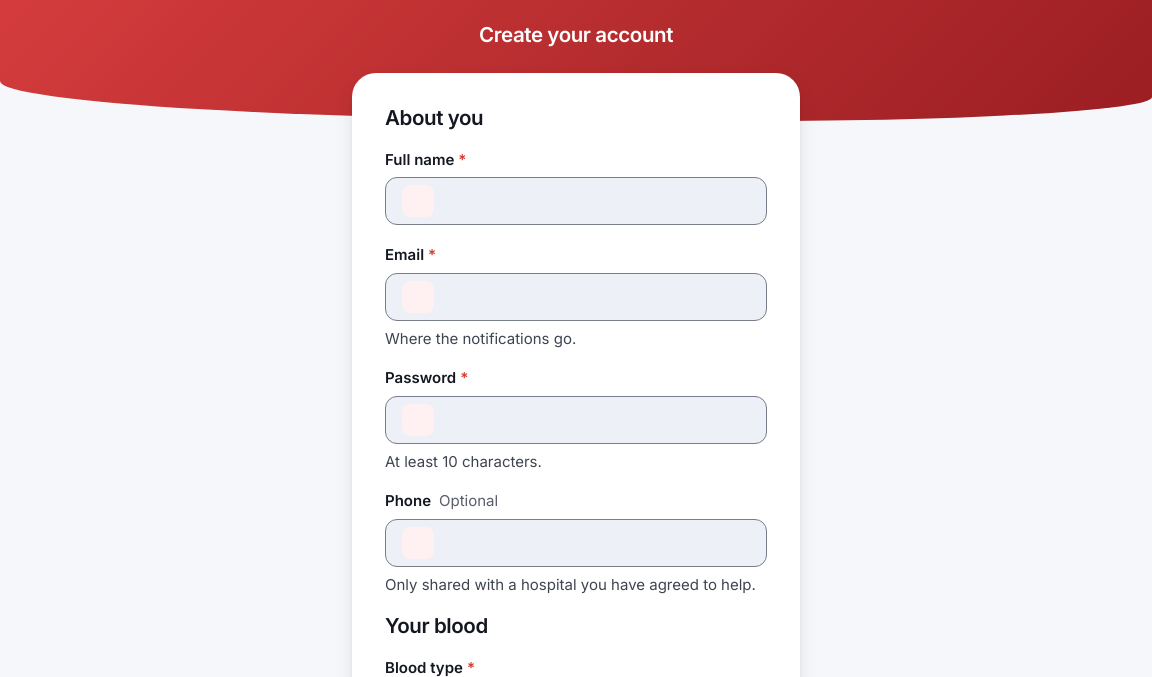
donor registration › puts a server-side field error on the field it belongs to
Type "Ana Petrovska" into the field labelled "Full name*" at coordinates (598, 201), box left=446, top=178, right=750, bottom=224
Type "ana@example.com" into the field labelled "Email*" at coordinates (598, 297), box left=446, top=274, right=750, bottom=320
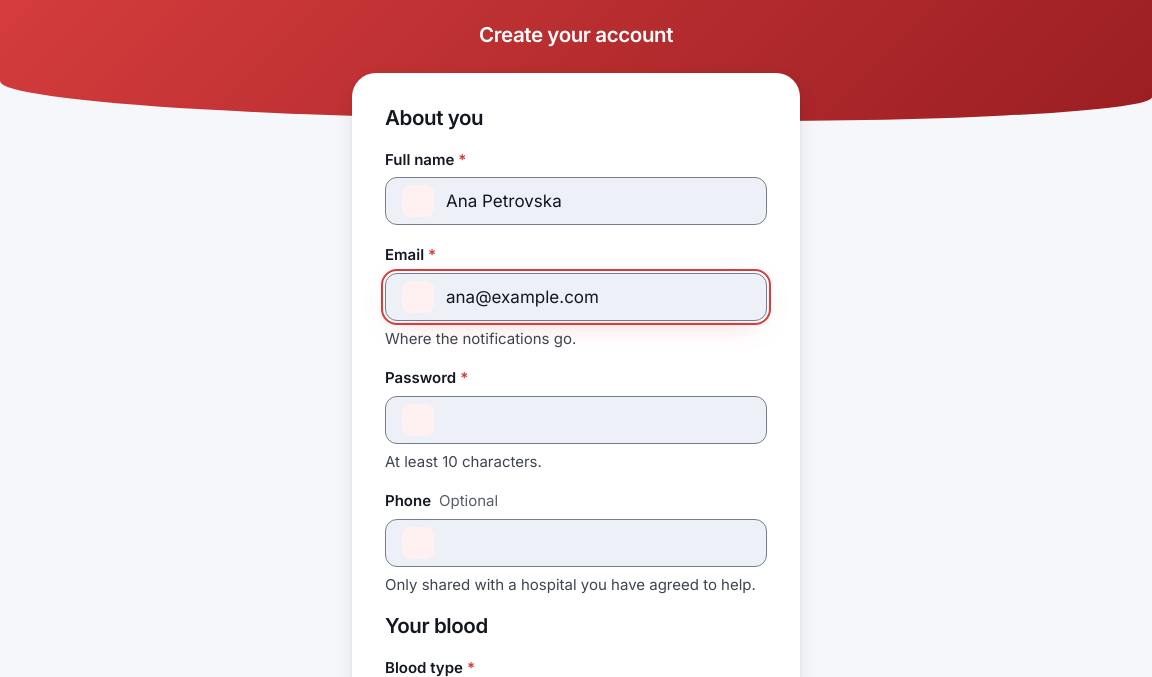
Type "a-long-enough-password" into the password field labelled "Password*" at coordinates (576, 420), box left=446, top=397, right=706, bottom=443
(page scrolled)
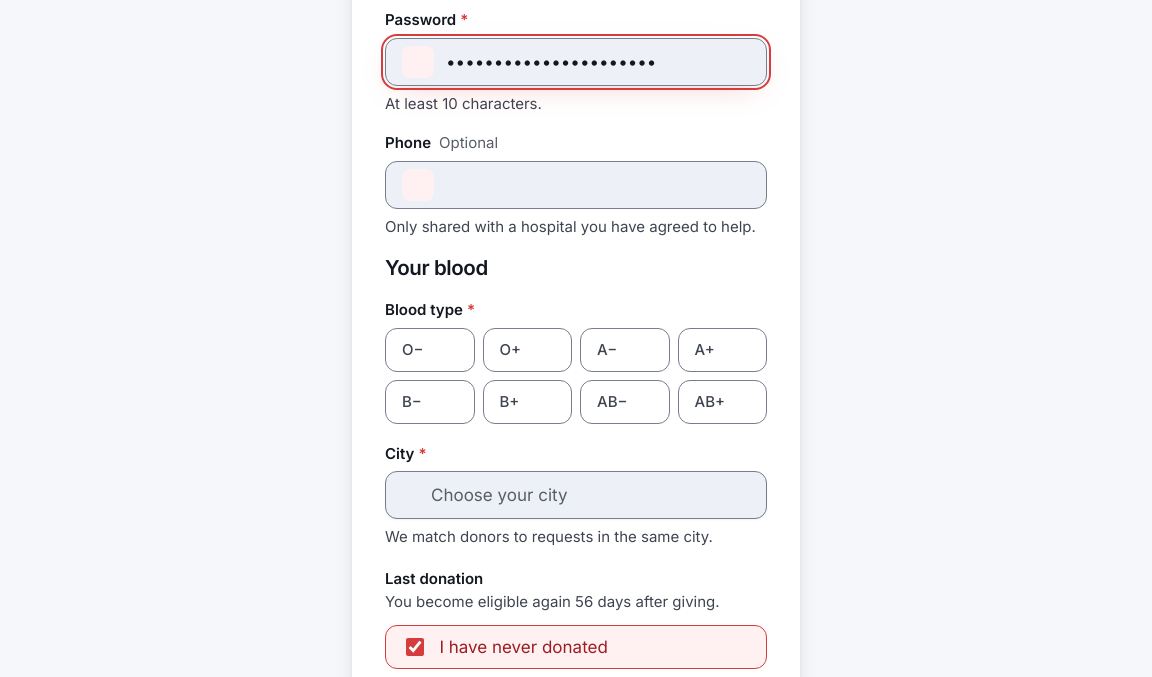
Click the button named "O negative" at coordinates (430, 350), box left=385, top=328, right=474, bottom=372
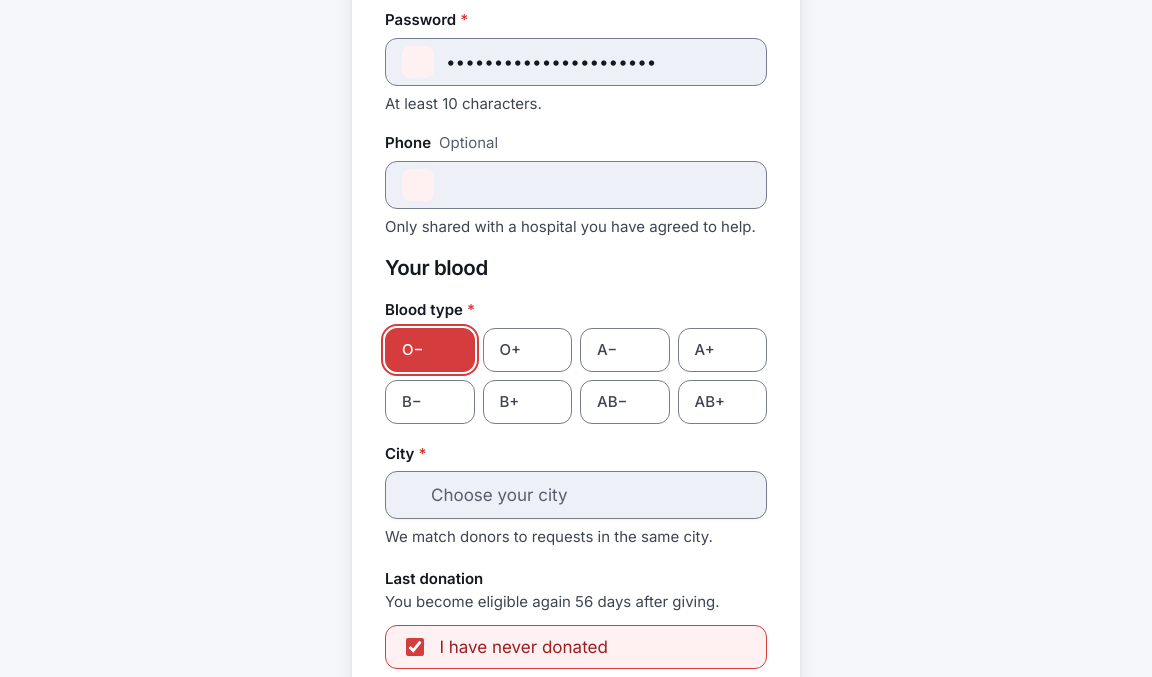
Click the dropdown labelled "Choose your city" at coordinates (499, 495), box left=385, top=471, right=767, bottom=519
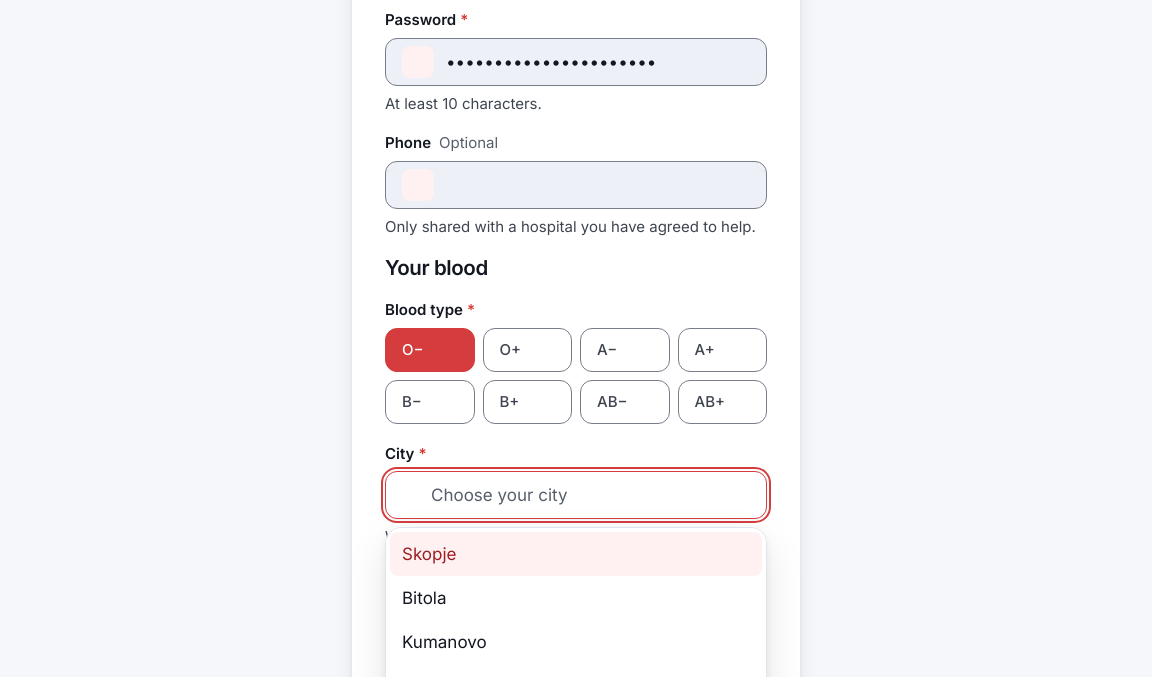
Click the option "Skopje" at coordinates (429, 554), box left=390, top=532, right=762, bottom=576
(page scrolled)
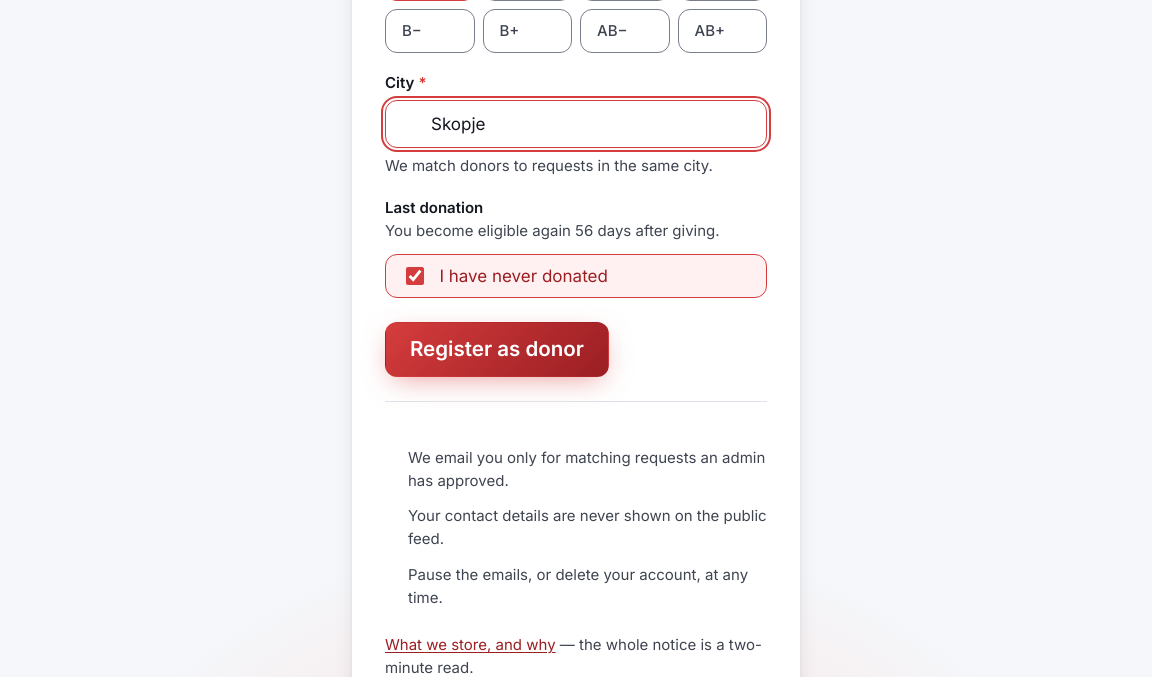
Click the button "Register as donor" at coordinates (497, 349), box left=385, top=322, right=609, bottom=377
(page scrolled)
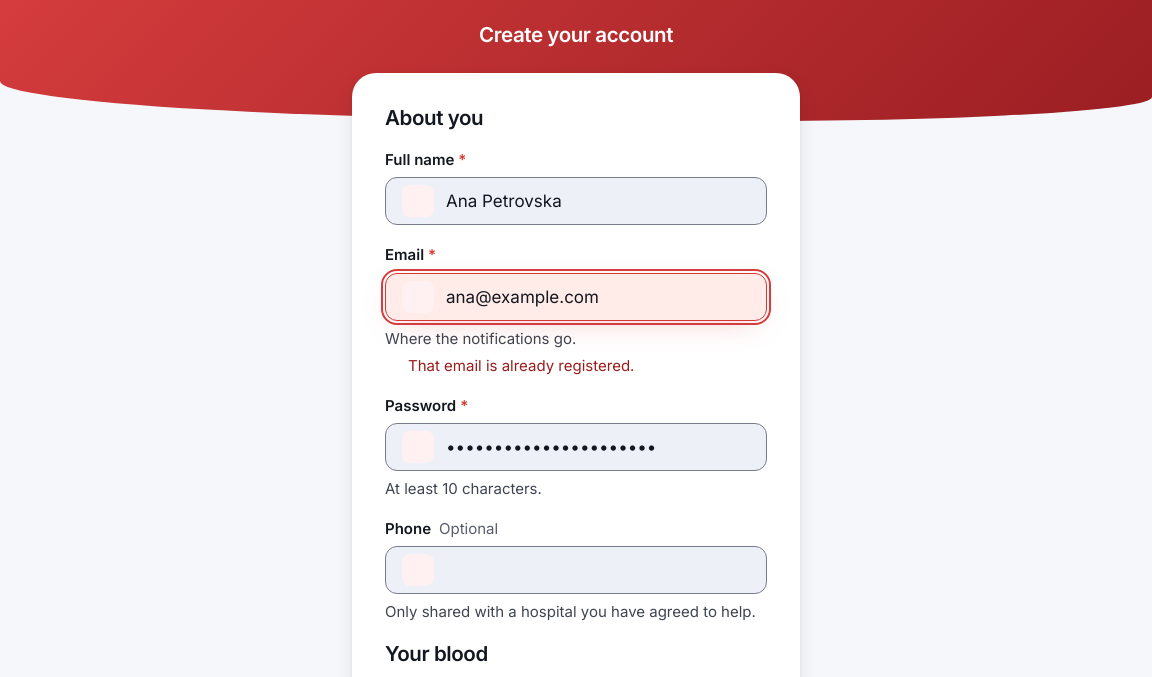
Check: the text "That email is already registered." is shown, box left=408, top=356, right=634, bottom=376
